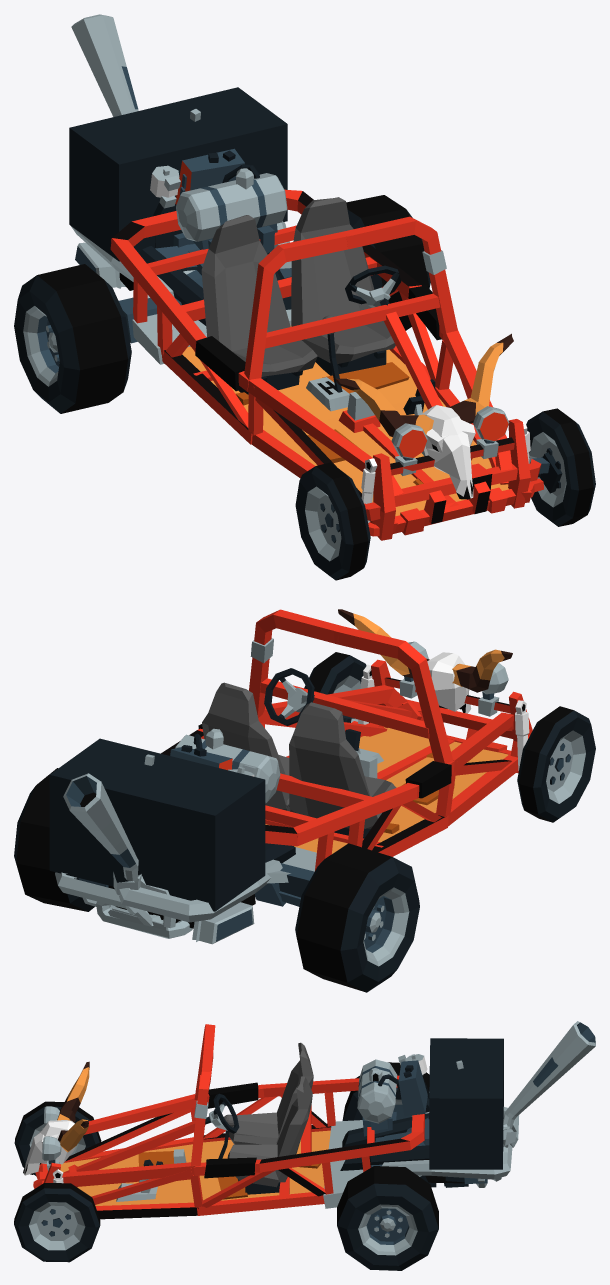
The model's file is Race_Cooper.obj.
3 views of the same model, one above another, from view 1: azimuth 30°, elevation 25°; view 2: azimuth 150°, elevation 25°; view 3: azimuth 270°, elevation 25° (orthographic). The views are drawn at different scales.
Visible parts, largest first — view 1: Kart_Cube.001, backWheel.r_mesh1863958756, frontWheel.r_mesh35187853, frontWheel.l_mesh552694142, backWheel.l_mesh228842624; view 2: Kart_Cube.001, backWheel.r_mesh1863958756, frontWheel.r_mesh35187853, backWheel.l_mesh228842624, frontWheel.l_mesh552694142; view 3: Kart_Cube.001, backWheel.l_mesh228842624, frontWheel.l_mesh552694142, frontWheel.r_mesh35187853, backWheel.r_mesh1863958756.
Part boxes in pixels (left/top/right/bottom): Kart_Cube.001: left=69, top=14, right=549, bottom=540; backWheel.r_mesh1863958756: left=14, top=264, right=131, bottom=413; frontWheel.r_mesh35187853: left=295, top=462, right=370, bottom=580; frontWheel.l_mesh552694142: left=526, top=408, right=595, bottom=526; backWheel.l_mesh228842624: left=346, top=195, right=430, bottom=330; Kart_Cube.001: left=49, top=609, right=532, bottom=944; backWheel.r_mesh1863958756: left=295, top=843, right=419, bottom=992; frontWheel.r_mesh35187853: left=517, top=706, right=595, bottom=822; backWheel.l_mesh228842624: left=14, top=768, right=94, bottom=911; frontWheel.l_mesh552694142: left=304, top=652, right=369, bottom=722; Kart_Cube.001: left=23, top=1021, right=595, bottom=1219; backWheel.l_mesh228842624: left=337, top=1166, right=438, bottom=1270; frontWheel.l_mesh552694142: left=14, top=1183, right=100, bottom=1262; frontWheel.r_mesh35187853: left=14, top=1101, right=101, bottom=1176; backWheel.r_mesh1863958756: left=342, top=1062, right=429, bottom=1120.
Size of the model in its own units: 1.89 by 1.34 by 3.57.
